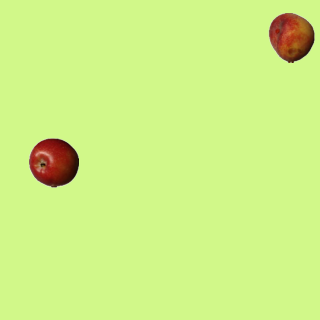Apple Braeburn: (28, 137, 78, 187)
Peach: (266, 12, 316, 62)
